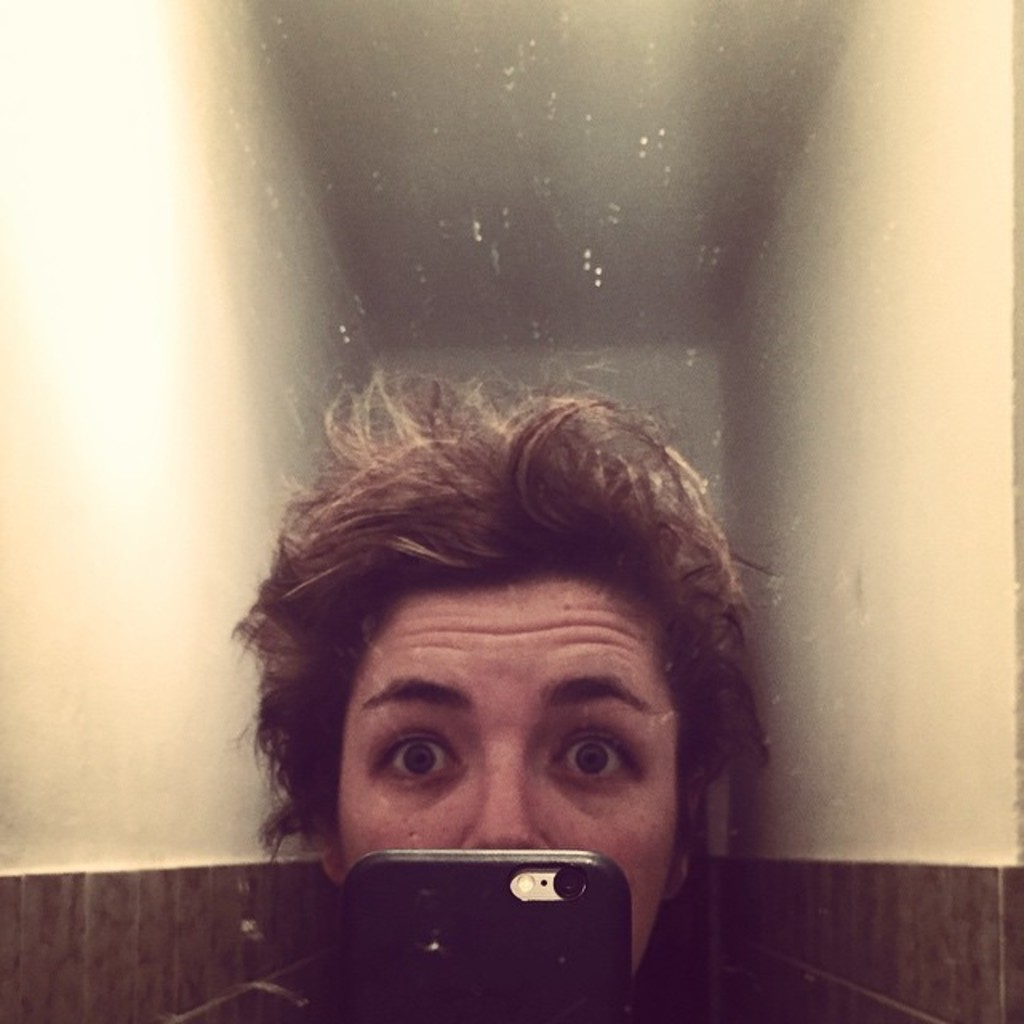Person: (227, 350, 778, 984)
